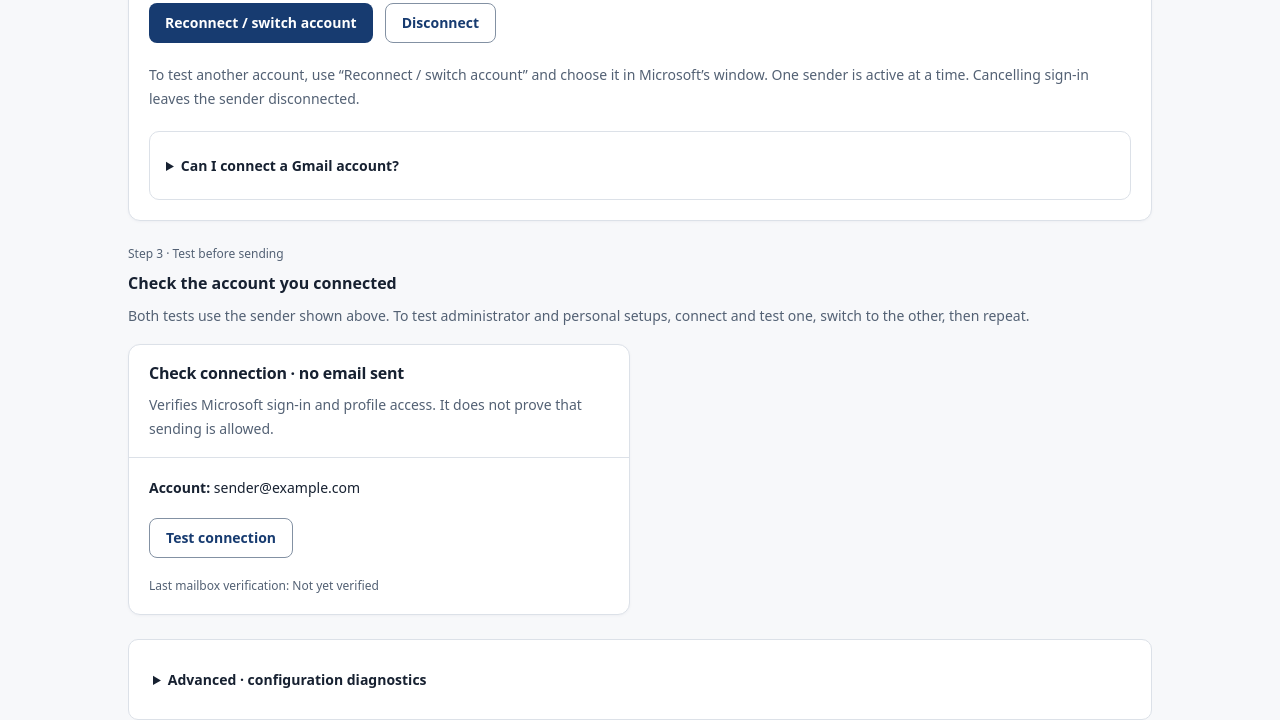
Test: user Microsoft configuration choices › tests the connected sender without sending mail
(page scrolled)
Click the button "Test connection".
click(221, 538)  # box [149,518,293,558]
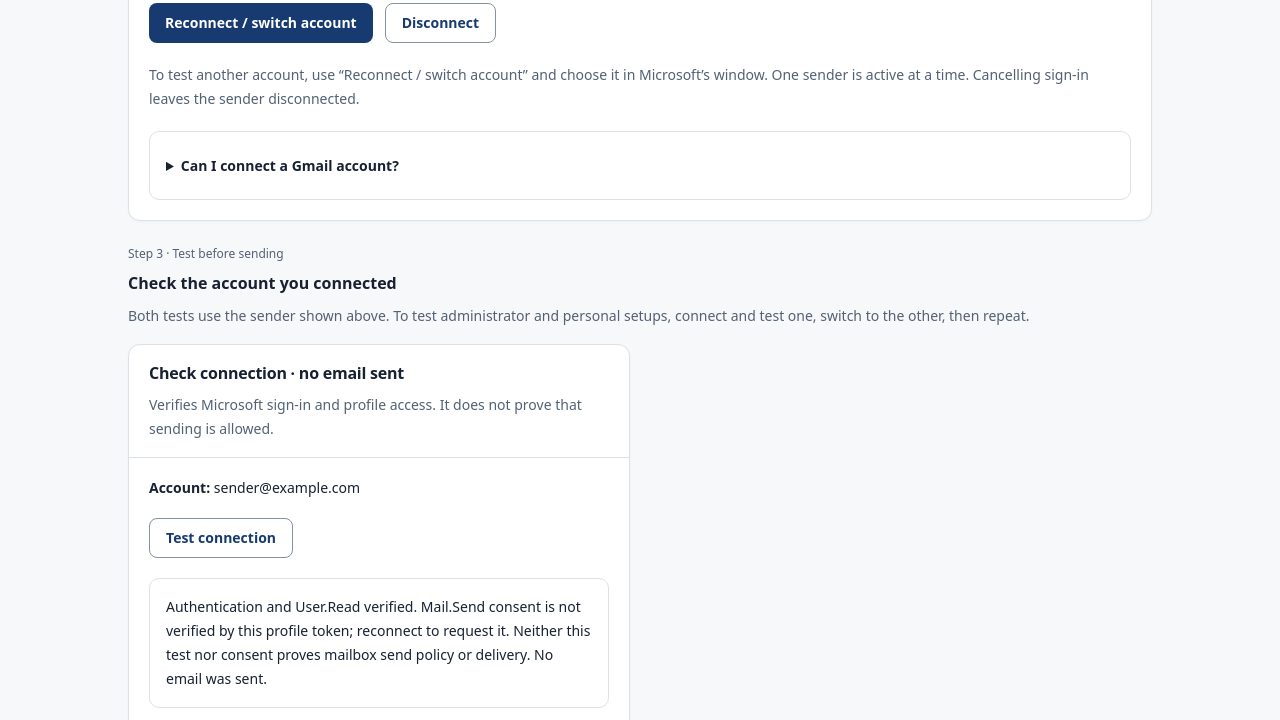
expect the text "Authentication and User.Read verified" is shown: met, box [166,597,590,688]
